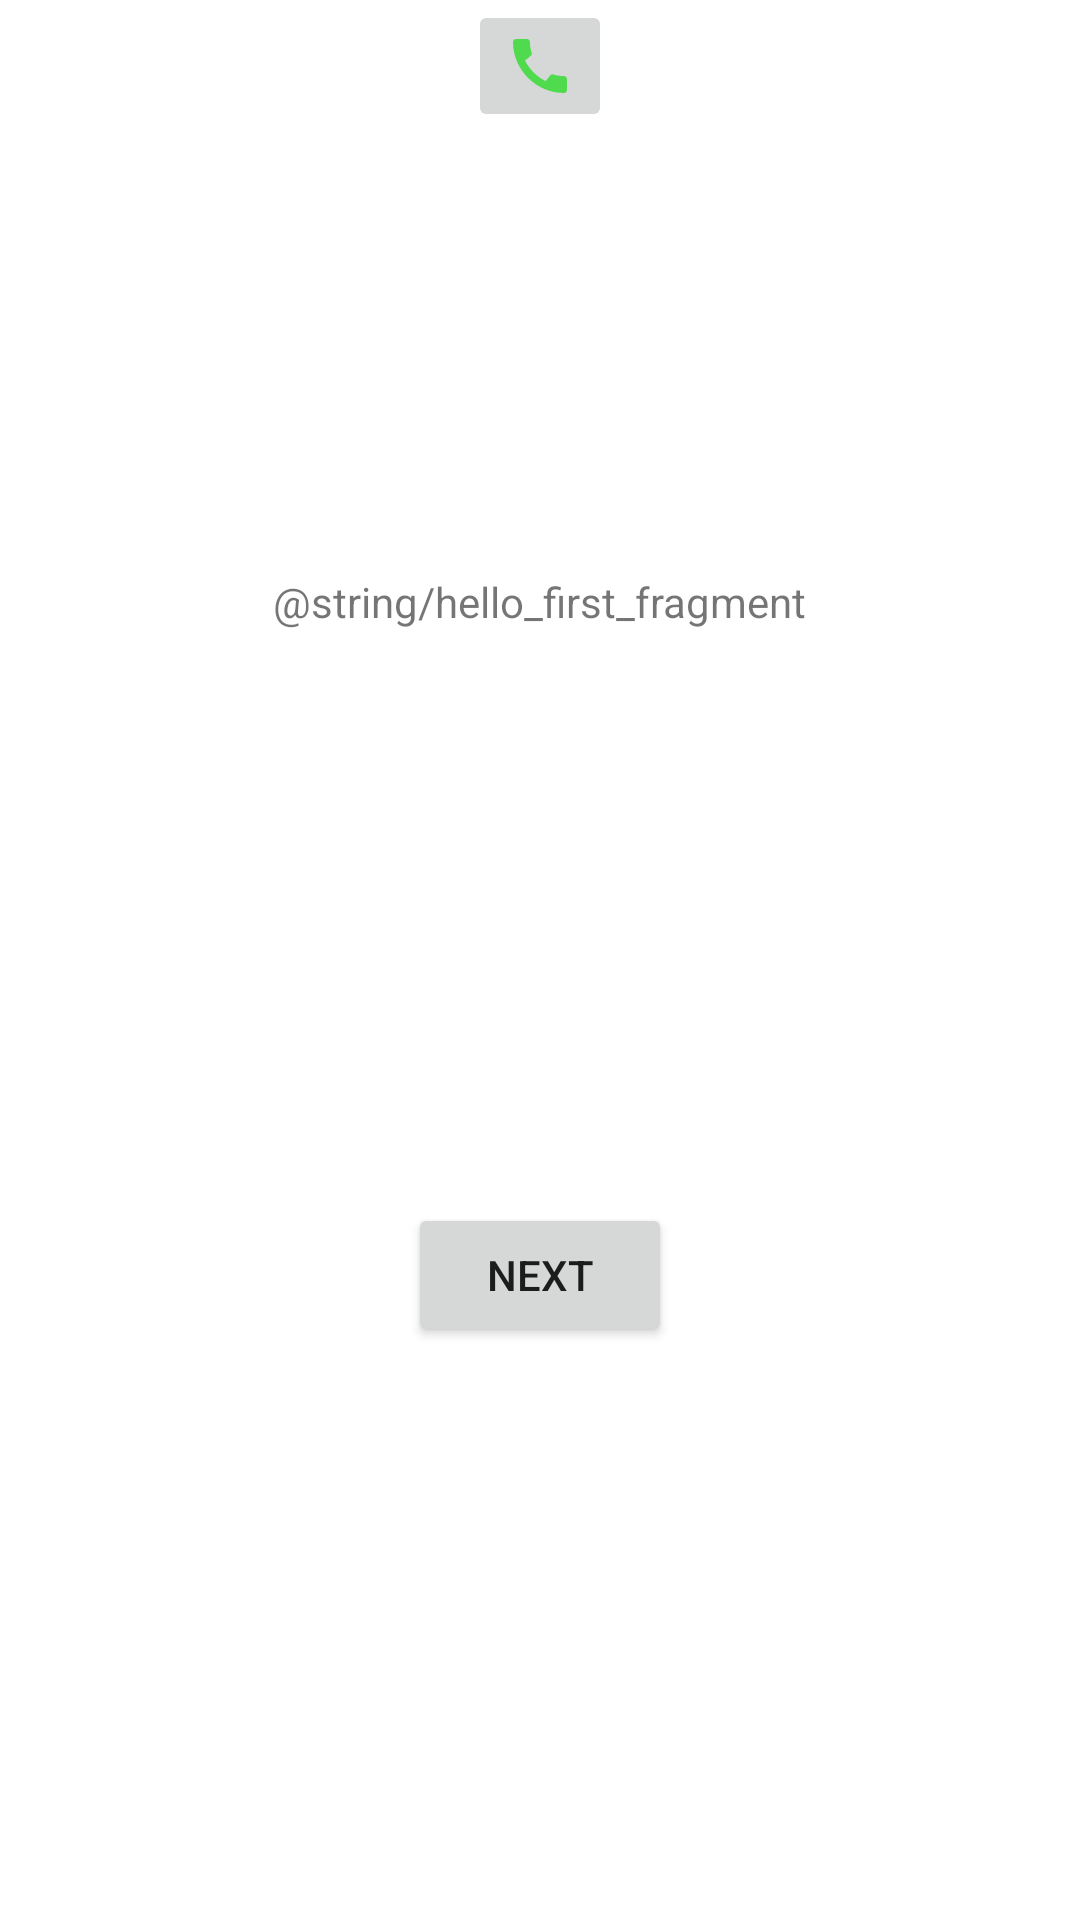

Locate icon controls on the screen. Image size 1080px×1920px, boxes as (x1, y1, x2, y2).
call: (480, 18, 600, 114)
